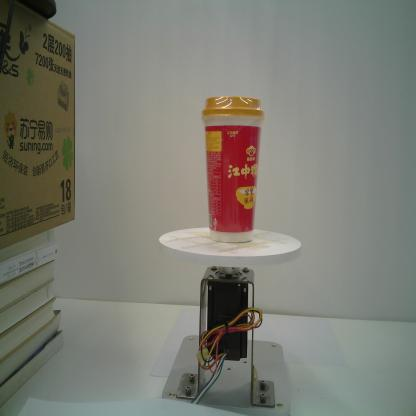Instant Drink: (200, 95, 265, 244)
